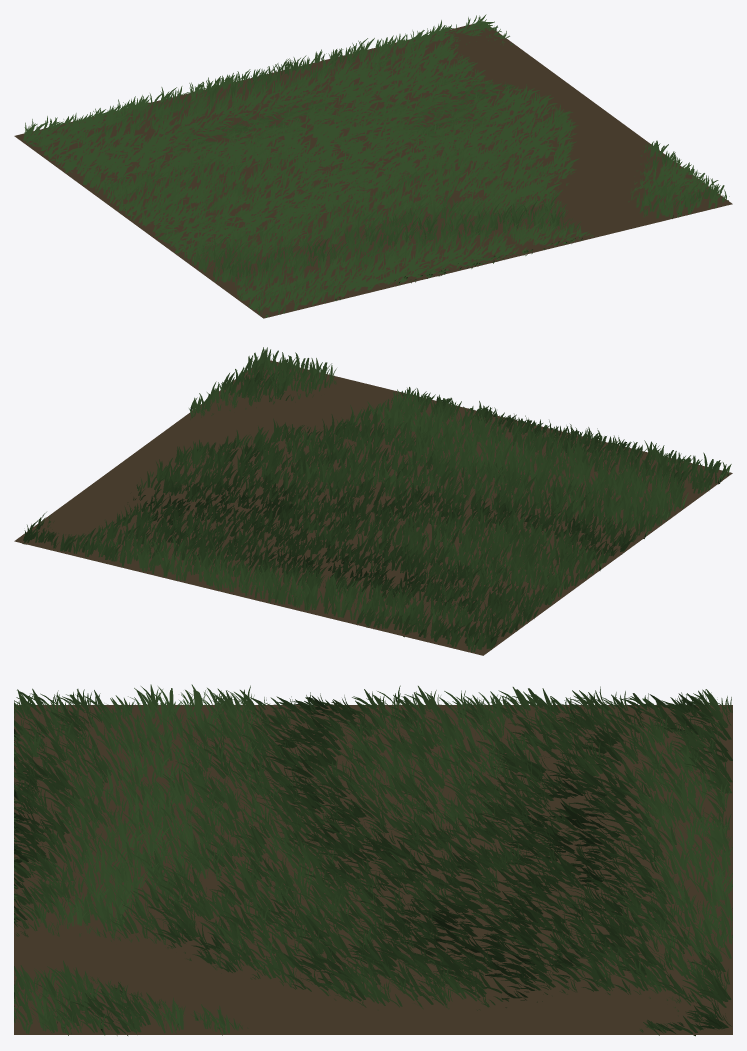
The model's file is ground_p1.glb.
3 renders of one model, top to bottom at view 1: azimuth 30°, elevation 25°; view 2: azimuth 150°, elevation 25°; view 3: azimuth 270°, elevation 25°, orthographic. The views are drawn at different scales.
Visible parts, largest first — view 1: Ground_P1; view 2: Ground_P1; view 3: Ground_P1.
Part boxes in pixels (x1,y1,x2,y2): Ground_P1: (14,14,732,318); Ground_P1: (14,347,732,655); Ground_P1: (14,684,732,1036).
Size of the model in its own units: 19 by 0.8481 by 17.5.
